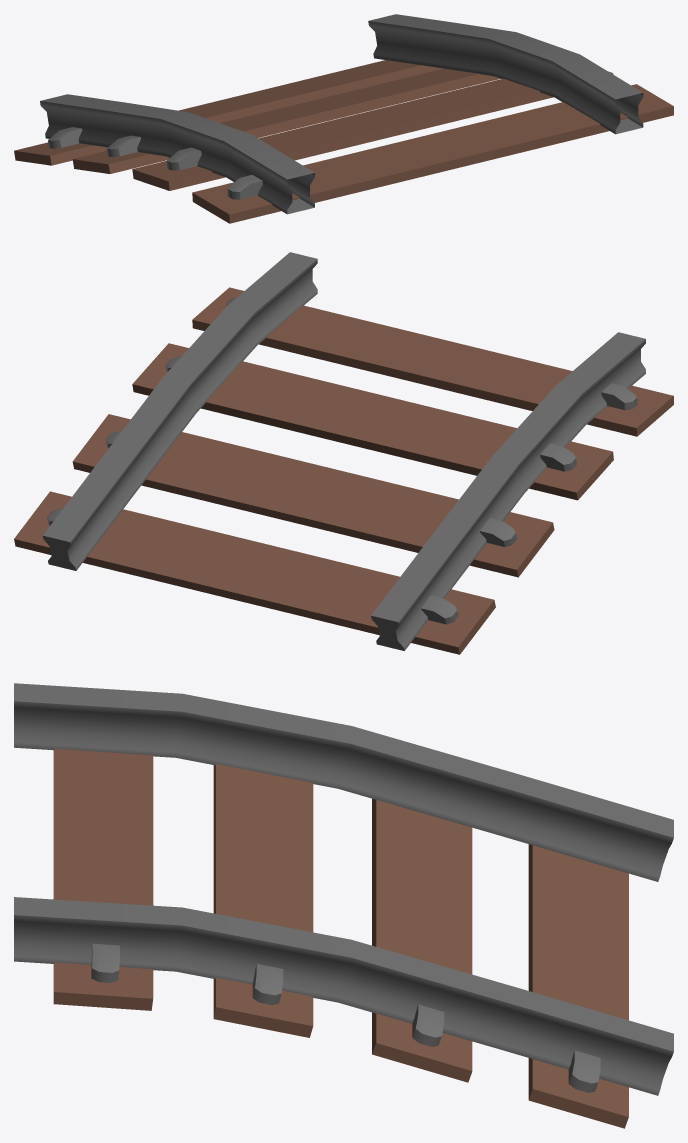
Rendered from Trilho_connect_Station.fbx.
The picture shows the model from 3 angles, top to bottom: view 1: azimuth 30°, elevation 25°; view 2: azimuth 150°, elevation 25°; view 3: azimuth 270°, elevation 25°; orthographic projection. The views are drawn at different scales.
Parts seen in each view (by area): view 1: Trilho_connect_Station; view 2: Trilho_connect_Station; view 3: Trilho_connect_Station.
Part boxes in pixels (x1=…): Trilho_connect_Station: x1=14, y1=14, x2=673, y2=223; Trilho_connect_Station: x1=14, y1=252, x2=673, y2=654; Trilho_connect_Station: x1=14, y1=683, x2=673, y2=1128.
Bounding box in the file's own units: 203 × 60.25 × 196.
